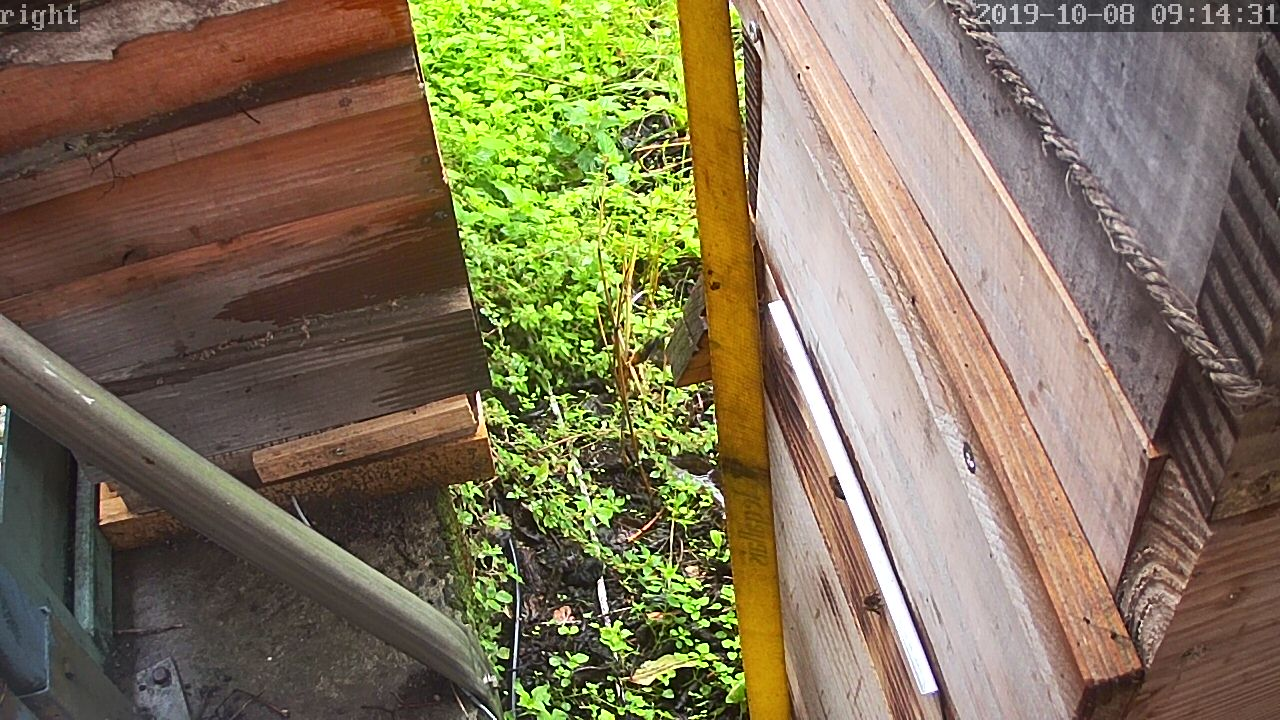bee: (856, 590, 886, 621), (823, 476, 851, 507)
hornet: (622, 332, 673, 380)
